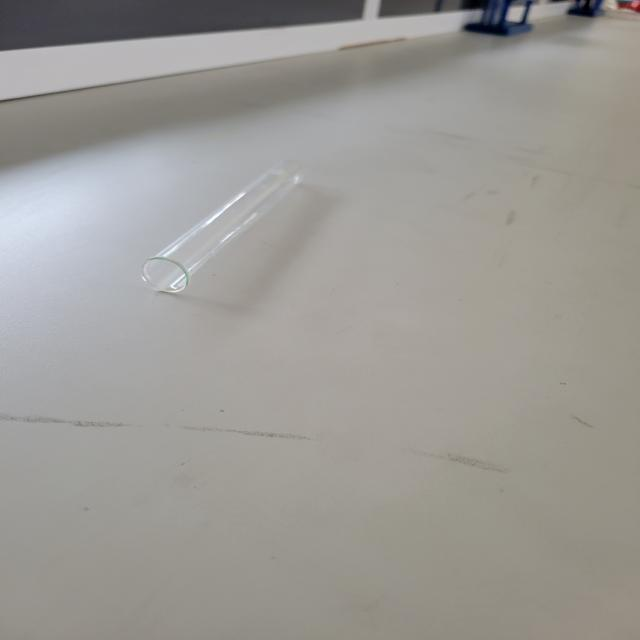Test_Tube: (110, 143, 345, 314)
